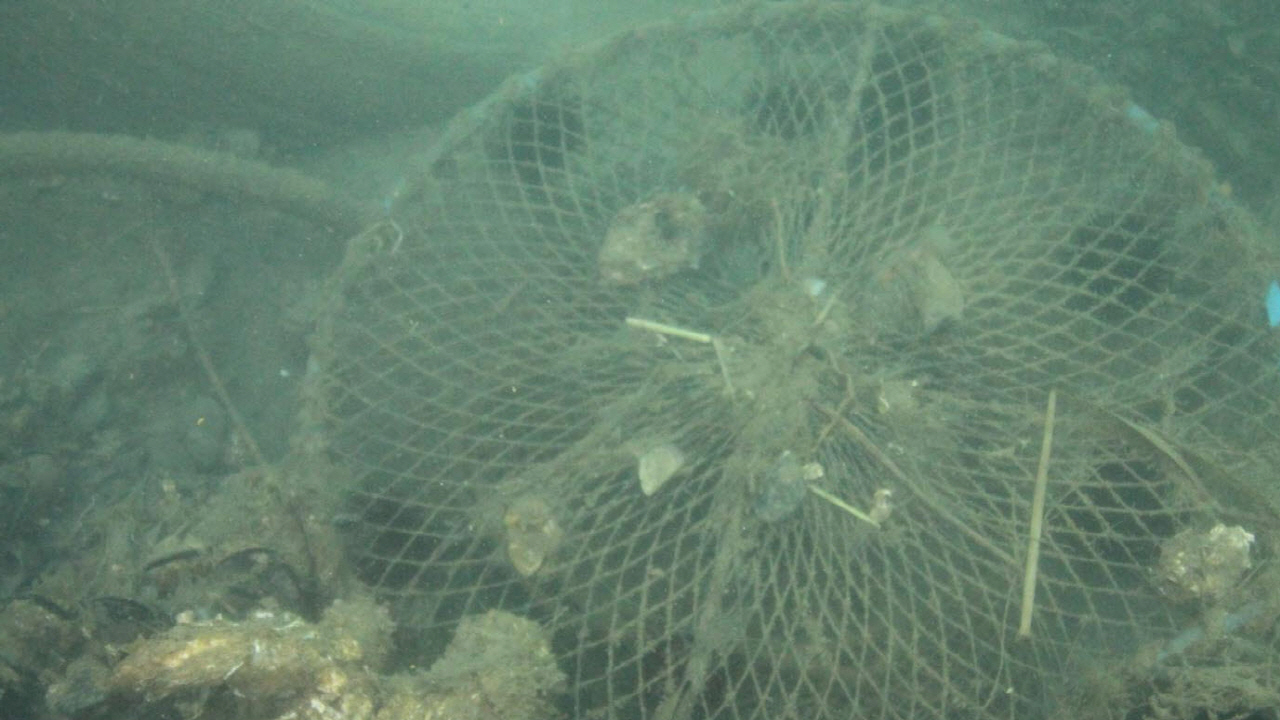circular fish trap: (289, 0, 1280, 720)
